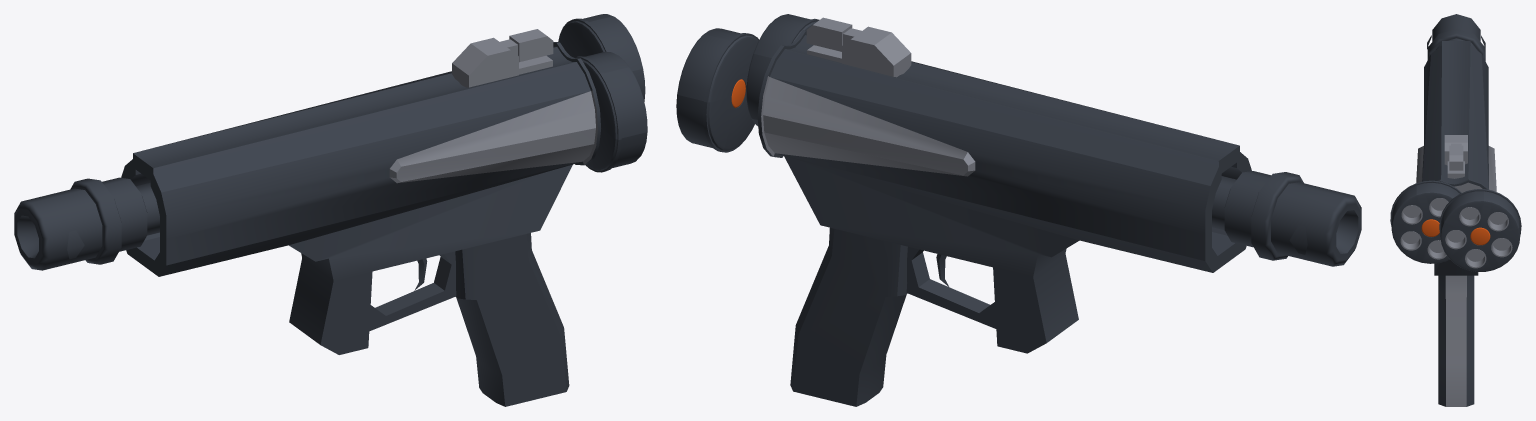
The model's file is gun_4.fbx.
The picture shows the model from 3 angles, left to right: view 1: azimuth 30°, elevation 25°; view 2: azimuth 150°, elevation 25°; view 3: azimuth 270°, elevation 25°; orthographic projection. The views are drawn at different scales.
Visible parts, largest first — view 1: Neru_Original_Weapon_01.001, gun.001, Cylinder.018, Cylinder.014, Cylinder.023, Cylinder.015, Cylinder.020; view 2: Neru_Original_Weapon_01.001, gun.001, Cylinder.015, Cylinder.016, Cylinder.020, Cylinder.014, Cylinder.021, Cylinder.017; view 3: Neru_Original_Weapon_01.001, gun.001, Cylinder.014, Cylinder.015, Cylinder.018, Cylinder.020, Cylinder.012, Cylinder.016, Cylinder.023, Cylinder.017, Cylinder.022, Cylinder.013 (+1 smaller).
Boxes of the visible parts, x1=… form: Neru_Original_Weapon_01.001: x1=121, y1=29, x2=600, y2=406; gun.001: x1=14, y1=177, x2=159, y2=270; Cylinder.018: x1=594, y1=67, x2=647, y2=139; Cylinder.014: x1=582, y1=16, x2=642, y2=71; Cylinder.023: x1=592, y1=128, x2=647, y2=172; Cylinder.015: x1=558, y1=14, x2=612, y2=57; Cylinder.020: x1=574, y1=51, x2=629, y2=85; Neru_Original_Weapon_01.001: x1=757, y1=17, x2=1251, y2=406; gun.001: x1=1212, y1=171, x2=1361, y2=266; Cylinder.015: x1=677, y1=34, x2=738, y2=102; Cylinder.016: x1=676, y1=94, x2=734, y2=151; Cylinder.020: x1=753, y1=14, x2=818, y2=57; Cylinder.014: x1=704, y1=28, x2=758, y2=83; Cylinder.021: x1=746, y1=54, x2=771, y2=119; Cylinder.017: x1=721, y1=100, x2=754, y2=152; Neru_Original_Weapon_01.001: x1=1416, y1=41, x2=1496, y2=406; gun.001: x1=1427, y1=14, x2=1485, y2=60; Cylinder.014: x1=1442, y1=189, x2=1483, y2=232; Cylinder.015: x1=1481, y1=189, x2=1520, y2=234; Cylinder.018: x1=1390, y1=183, x2=1427, y2=230; Cylinder.020: x1=1416, y1=180, x2=1461, y2=222; Cylinder.012: x1=1439, y1=212, x2=1473, y2=263; Cylinder.016: x1=1485, y1=218, x2=1521, y2=266; Cylinder.023: x1=1390, y1=221, x2=1428, y2=262; Cylinder.017: x1=1454, y1=243, x2=1500, y2=271; Cylinder.022: x1=1422, y1=233, x2=1449, y2=263; Cylinder.013: x1=1470, y1=227, x2=1490, y2=245.
Bounding box in the file's own units: 838 × 465 × 225.
